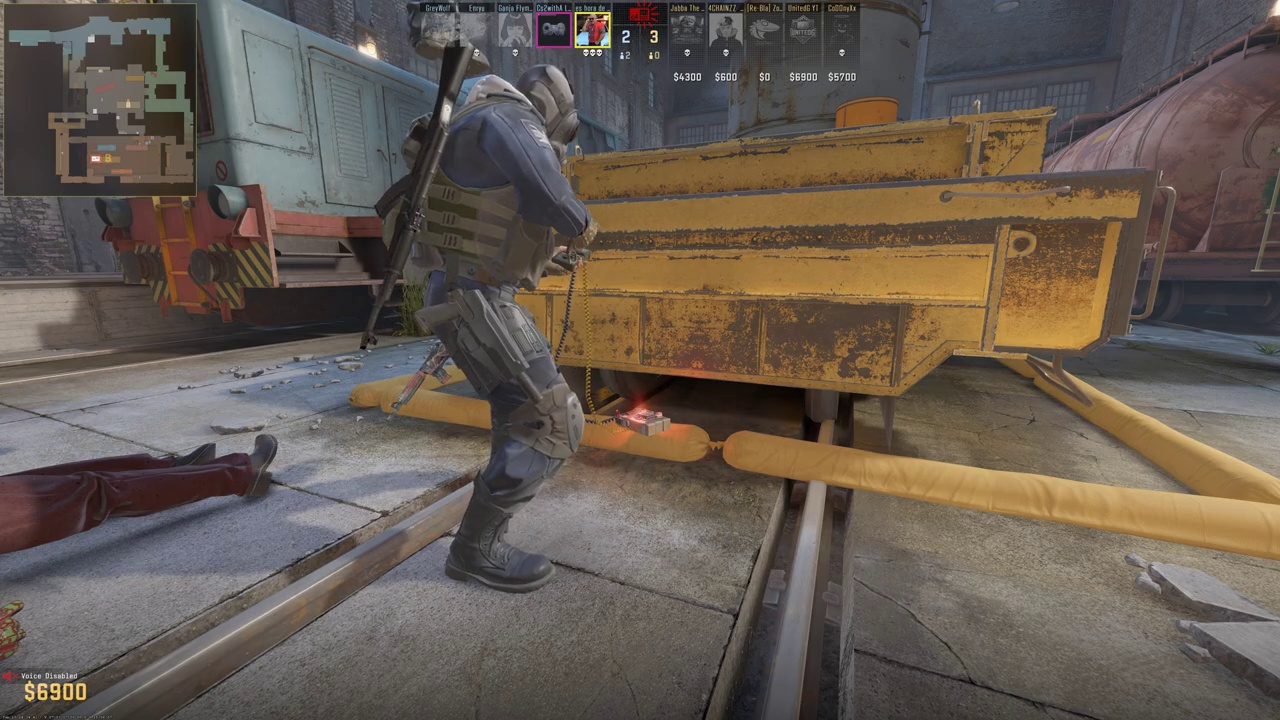CT: (410, 63, 596, 593)
